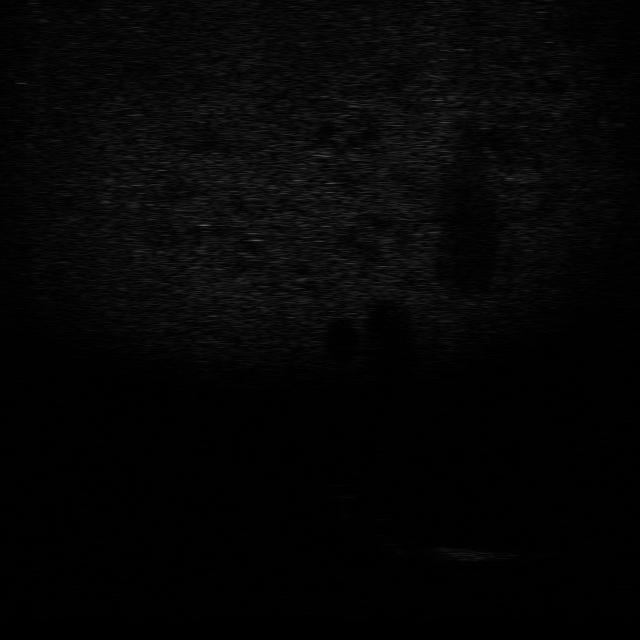ball: (319, 480, 366, 502)
metal bucket: (427, 540, 505, 568)
tyre: (367, 514, 418, 546)
